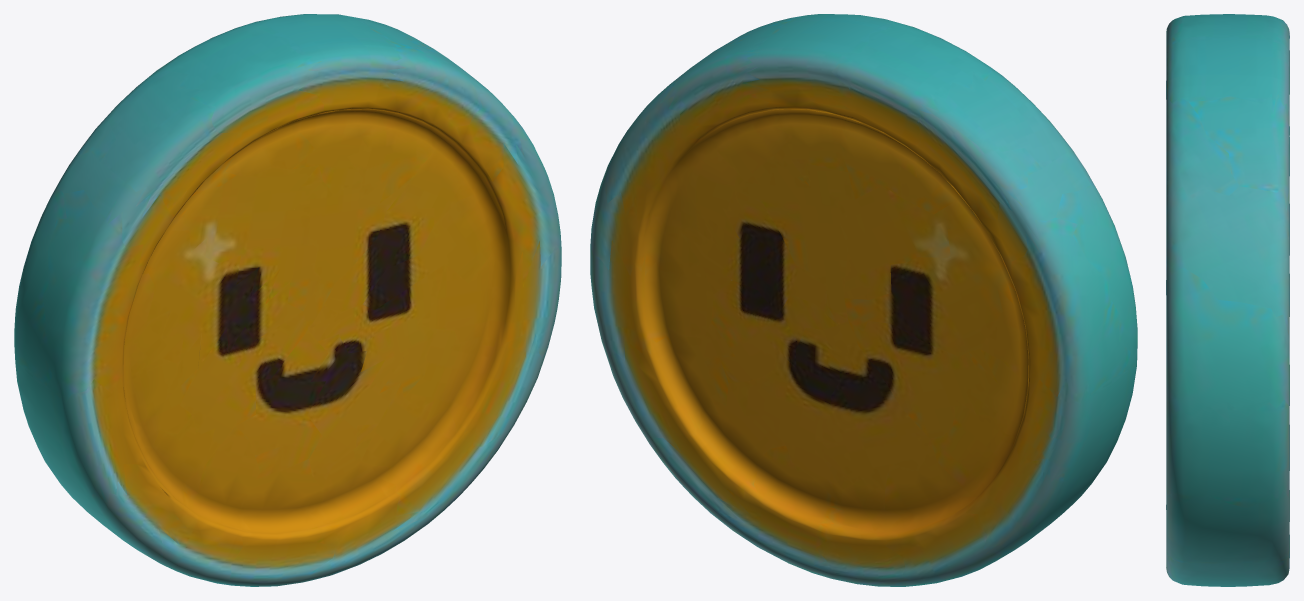
File: ArcadeTokens.glb
3 renders of one model, left to right at view 1: azimuth 30°, elevation 25°; view 2: azimuth 150°, elevation 25°; view 3: azimuth 270°, elevation 25°, orthographic.
Visible parts, largest first — view 1: Arcade Tokens; view 2: Arcade Tokens; view 3: Arcade Tokens.
Part boxes in pixels (left/top/right/bottom): Arcade Tokens: left=14, top=14, right=561, bottom=586; Arcade Tokens: left=590, top=14, right=1137, bottom=586; Arcade Tokens: left=1166, top=14, right=1289, bottom=586.
Size of the model in its own units: 1.26 by 1.26 by 0.2722.
Materials: 1 (1 with a texture image).
